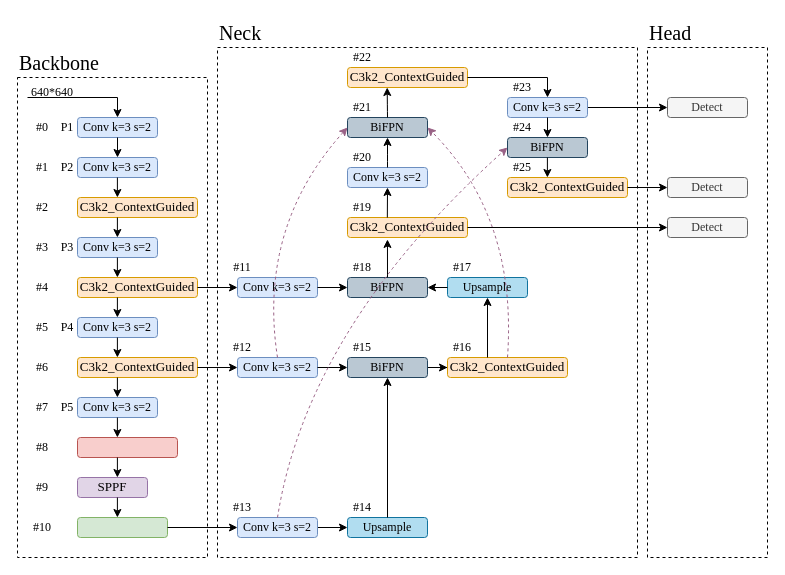
Some shapes in this 785 by 575 pixel diagram are drawn without their labels. Here are the shapes that lost their labels. From the top down, the box of each, then its label:
(76, 436, 178, 458): C3k2_EMSCP
(76, 516, 168, 538): C2PSA
